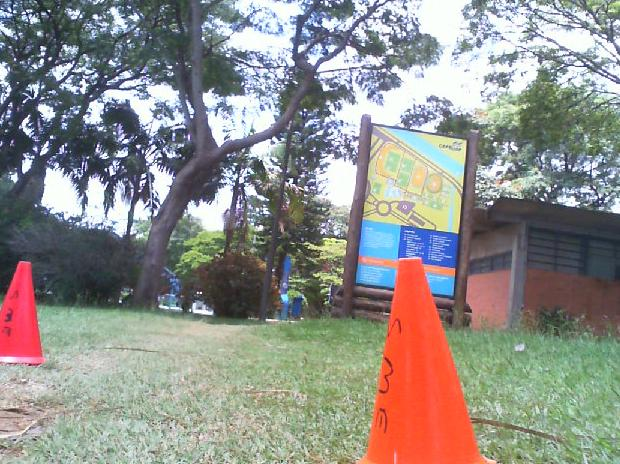0 cone: (349, 258, 495, 464), (0, 261, 46, 365)
